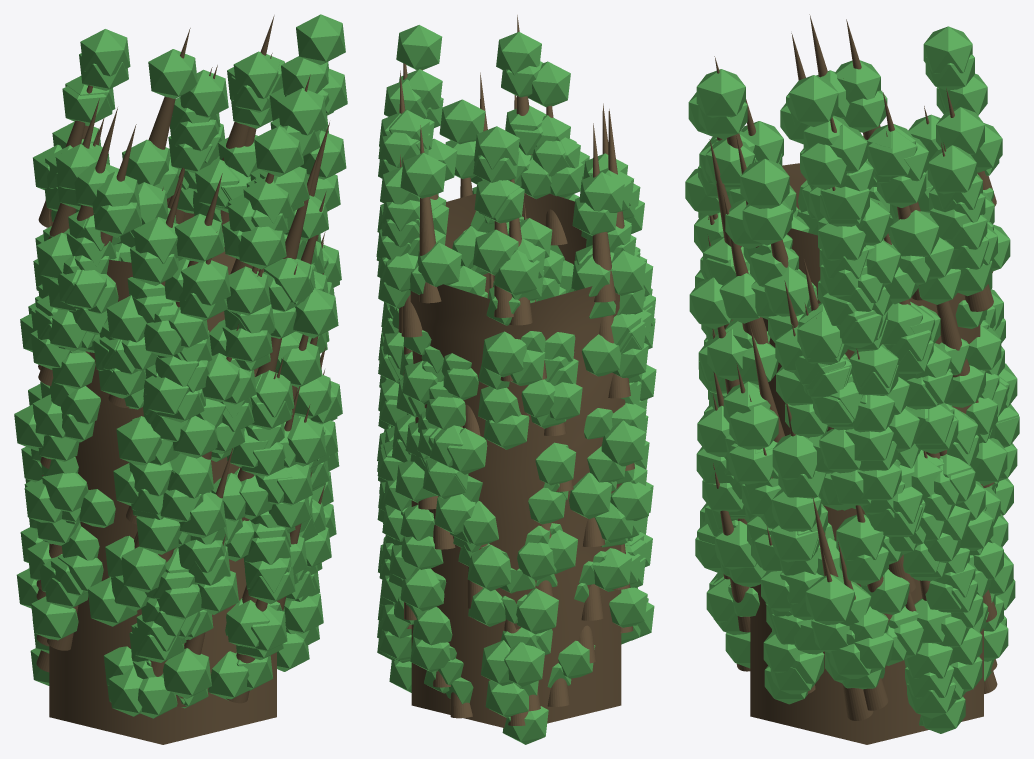
File: tree_var_9996.glb
3 renders of one model, left to right at view 1: azimuth 30°, elevation 25°; view 2: azimuth 150°, elevation 25°; view 3: azimuth 270°, elevation 25°, orthographic. The views are drawn at different scales.
Visible parts, largest first — view 1: tree_var_9996; view 2: tree_var_9996; view 3: tree_var_9996.
Part boxes in pixels (box(x1,y1,x2,y2)): tree_var_9996: box(14, 14, 347, 744); tree_var_9996: box(376, 15, 656, 744); tree_var_9996: box(685, 14, 1019, 744).
Bounding box in the file's own units: 2.66 × 5.72 × 2.48.
